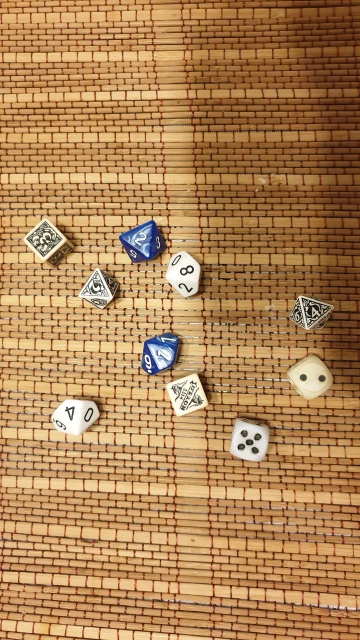d10-1: (132, 326, 182, 377)
d10-2: (119, 219, 169, 269)
d10-4: (46, 392, 103, 439)
d10-8: (162, 249, 206, 299)
d6-2: (284, 350, 338, 404)
d6-5: (224, 414, 276, 465)
d6p-1: (162, 370, 212, 419)
d6p-3: (20, 215, 75, 269)
d8p-2: (75, 266, 122, 314)
d8p-4: (286, 287, 336, 336)
